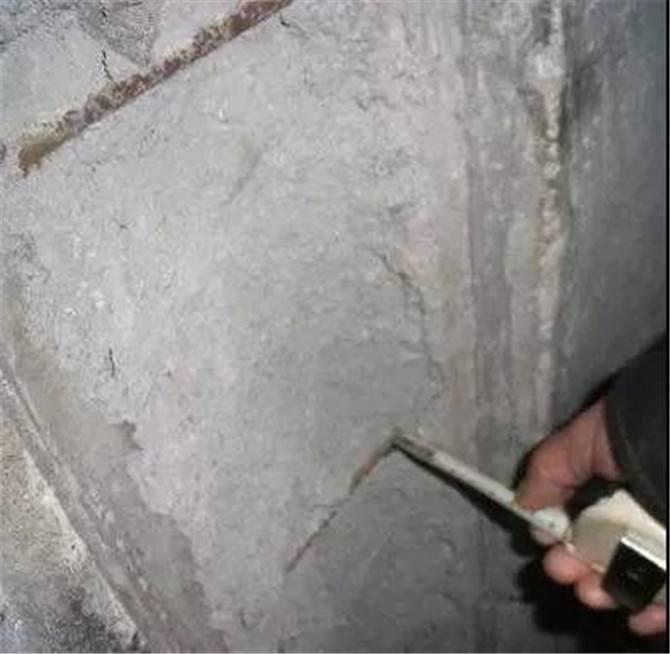Exposed reinforcement: (15, 1, 296, 179), (284, 441, 396, 575)
